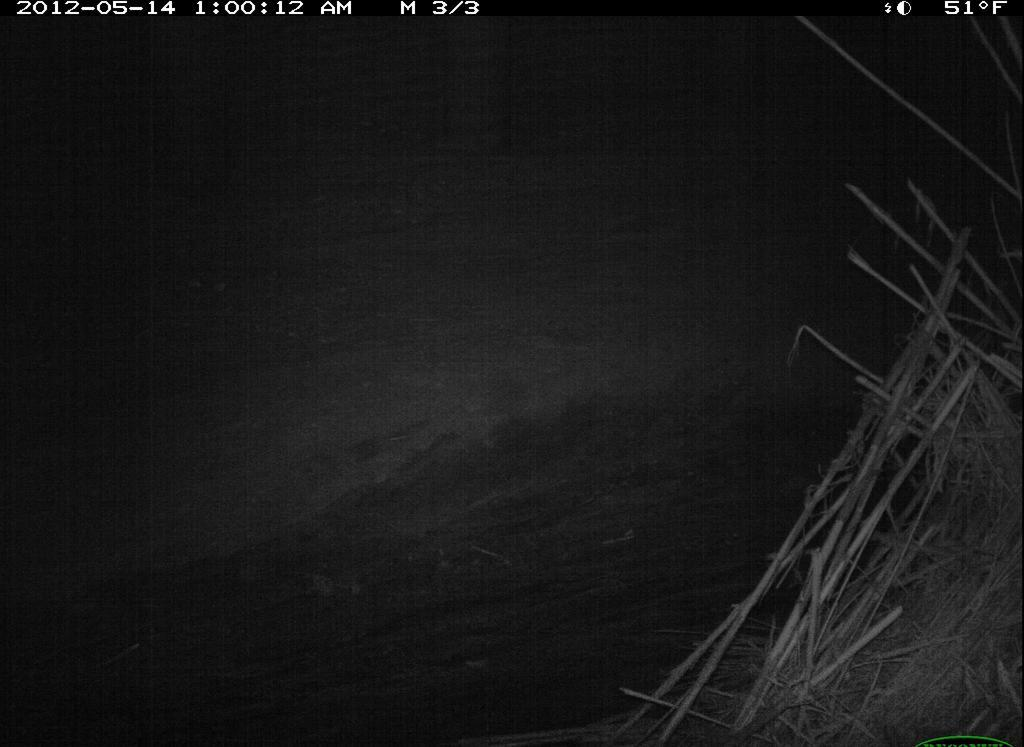raccoon: (157, 255, 272, 317)
